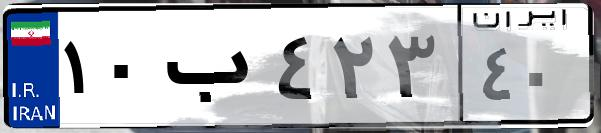0: (525, 38, 570, 115), (110, 28, 158, 98)
1: (57, 26, 110, 100)
2: (330, 28, 385, 110)
3: (385, 28, 445, 110)
4: (270, 28, 330, 110), (475, 38, 525, 113)
ب: (158, 20, 270, 120)
